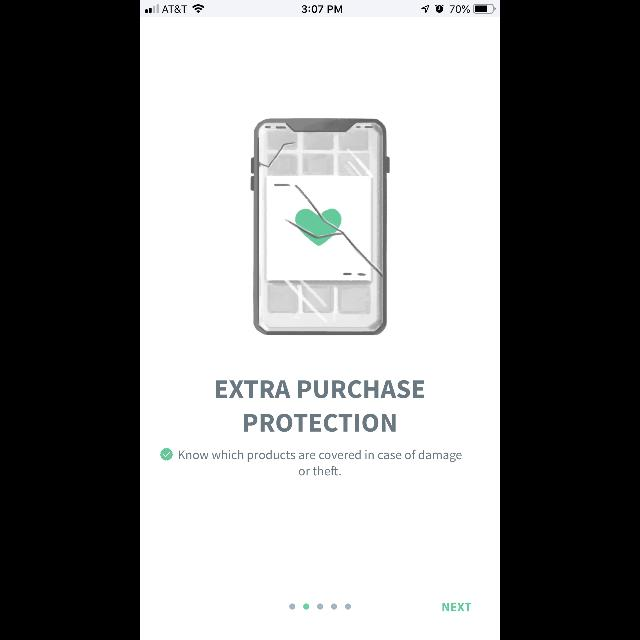icon: (160, 448, 173, 460)
image: (252, 118, 391, 336)
pageindicator: (289, 603, 351, 609)
text: (216, 380, 424, 432), (178, 450, 462, 476), (442, 602, 472, 612)
uppertaskbar: (140, 1, 500, 18)
